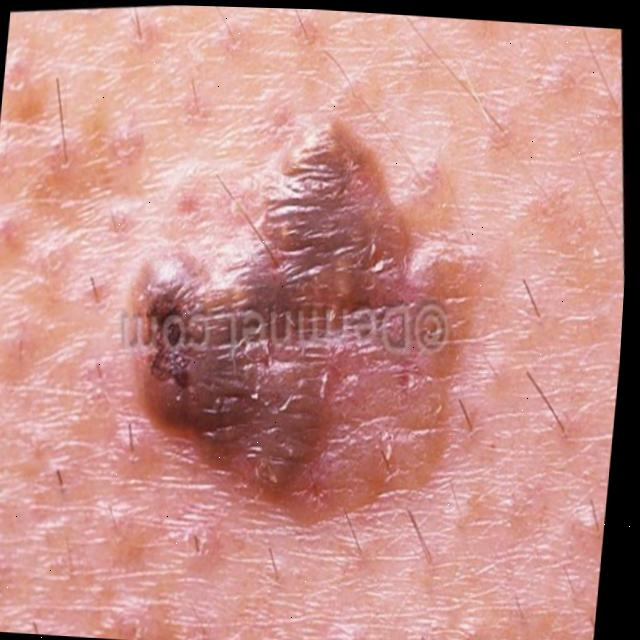Eczema: (174, 163, 423, 424)
